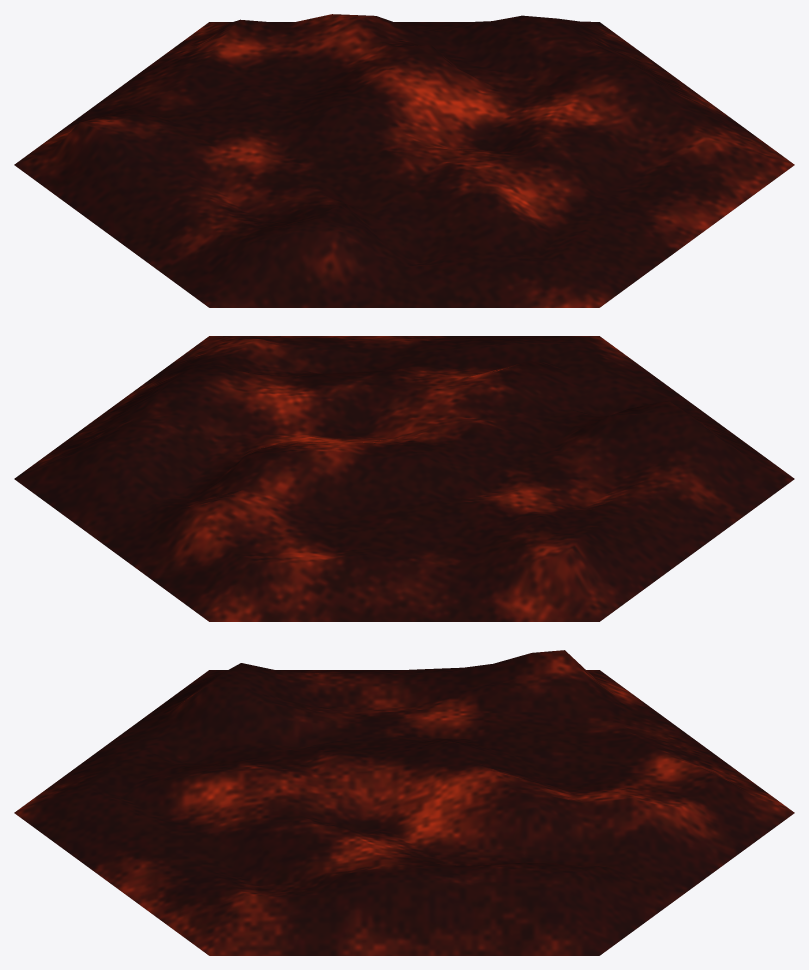
File: HexSoil_s11.fbx
3 views of the same model, one above another, from view 1: azimuth 30°, elevation 25°; view 2: azimuth 150°, elevation 25°; view 3: azimuth 270°, elevation 25° (orthographic).
Visible parts, largest first — view 1: HexSoil_s11; view 2: HexSoil_s11; view 3: HexSoil_s11.
Boxes of the visible parts, x1,y1,x2,y2 form: HexSoil_s11: (14, 14, 794, 307); HexSoil_s11: (14, 336, 794, 621); HexSoil_s11: (14, 650, 794, 955).
Bounding box in the file's own units: 86.6 × 7.56 × 100.
Materials: 1 (1 with a texture image).
